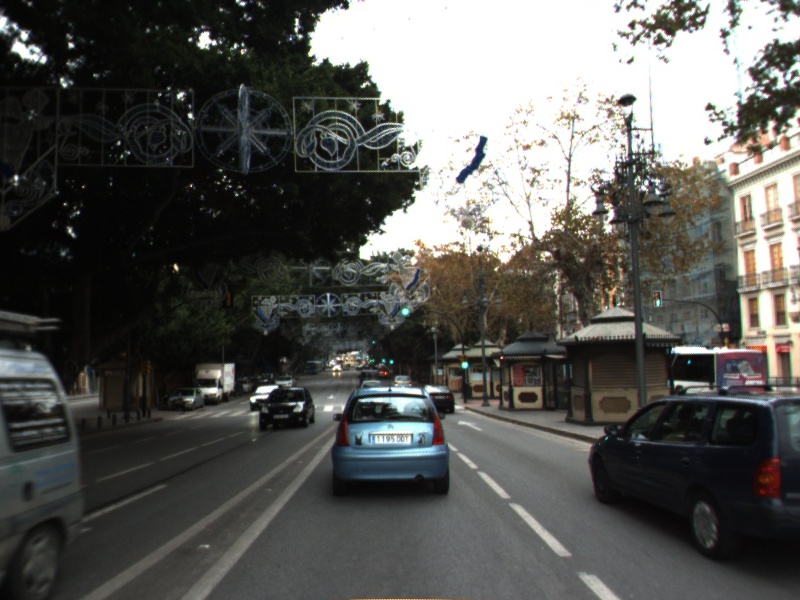STRAIGHT: (455, 418, 484, 432)
